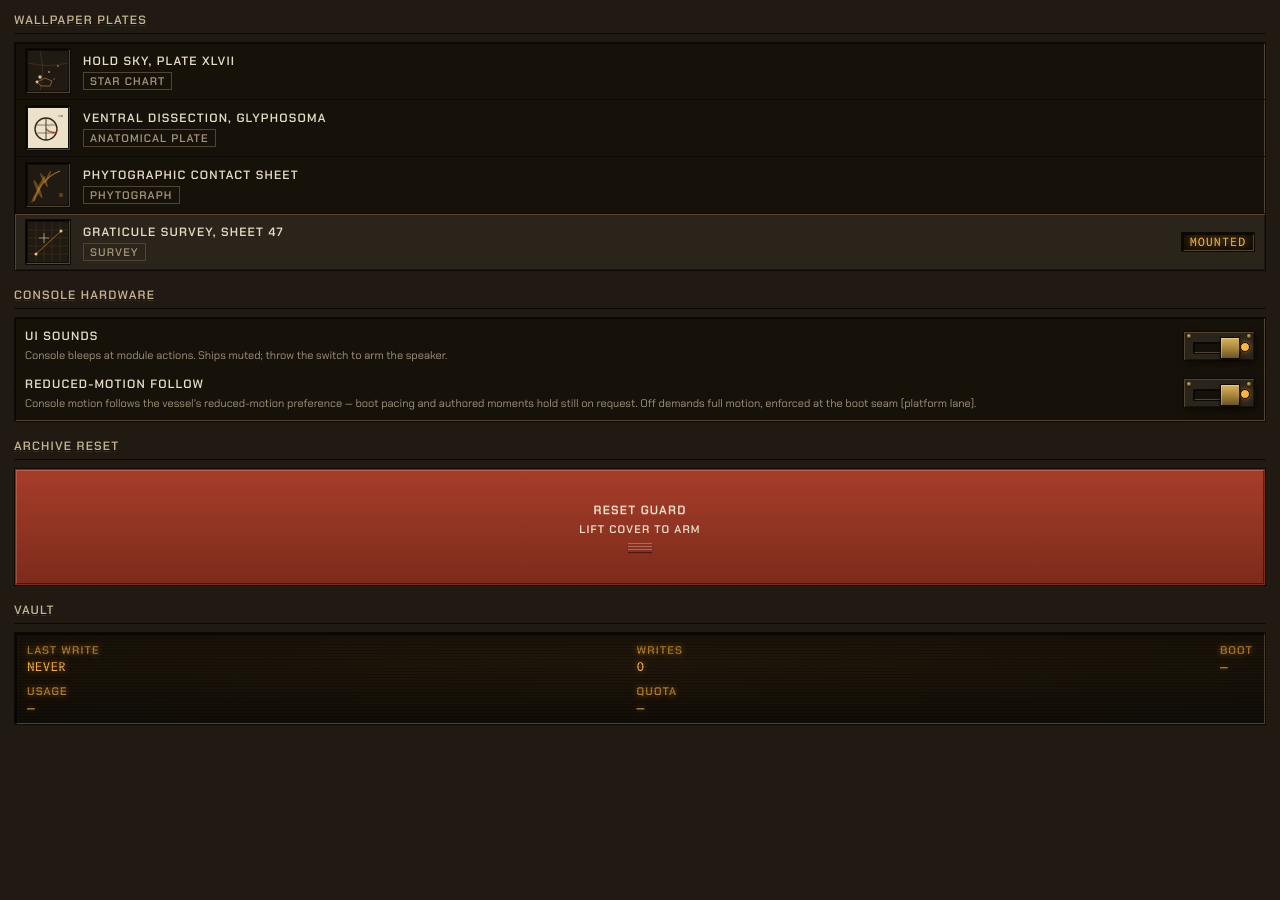
Test: AP-4 · guarded reset (cover → strip → throw) › throwing runs the storage reset + rehydrate: catalog reseeded, windows closed, console relit
This screenshot has width=1280, height=900.
Click the button "Reset guard Lift cover to arm" at (640, 527), box [15, 469, 1265, 585]
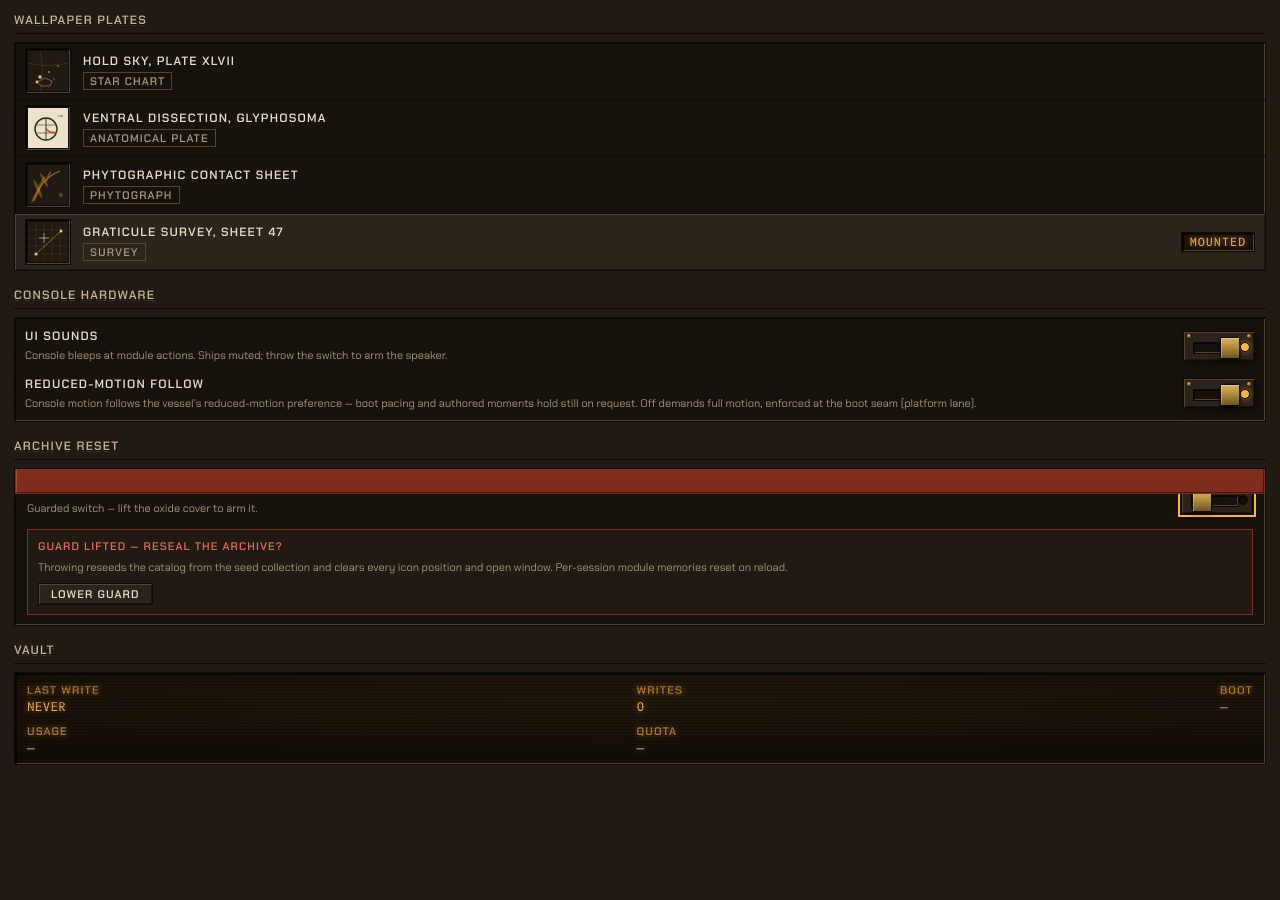
Press Space in the switch named "Reseal archive", box [1181, 484, 1253, 514]
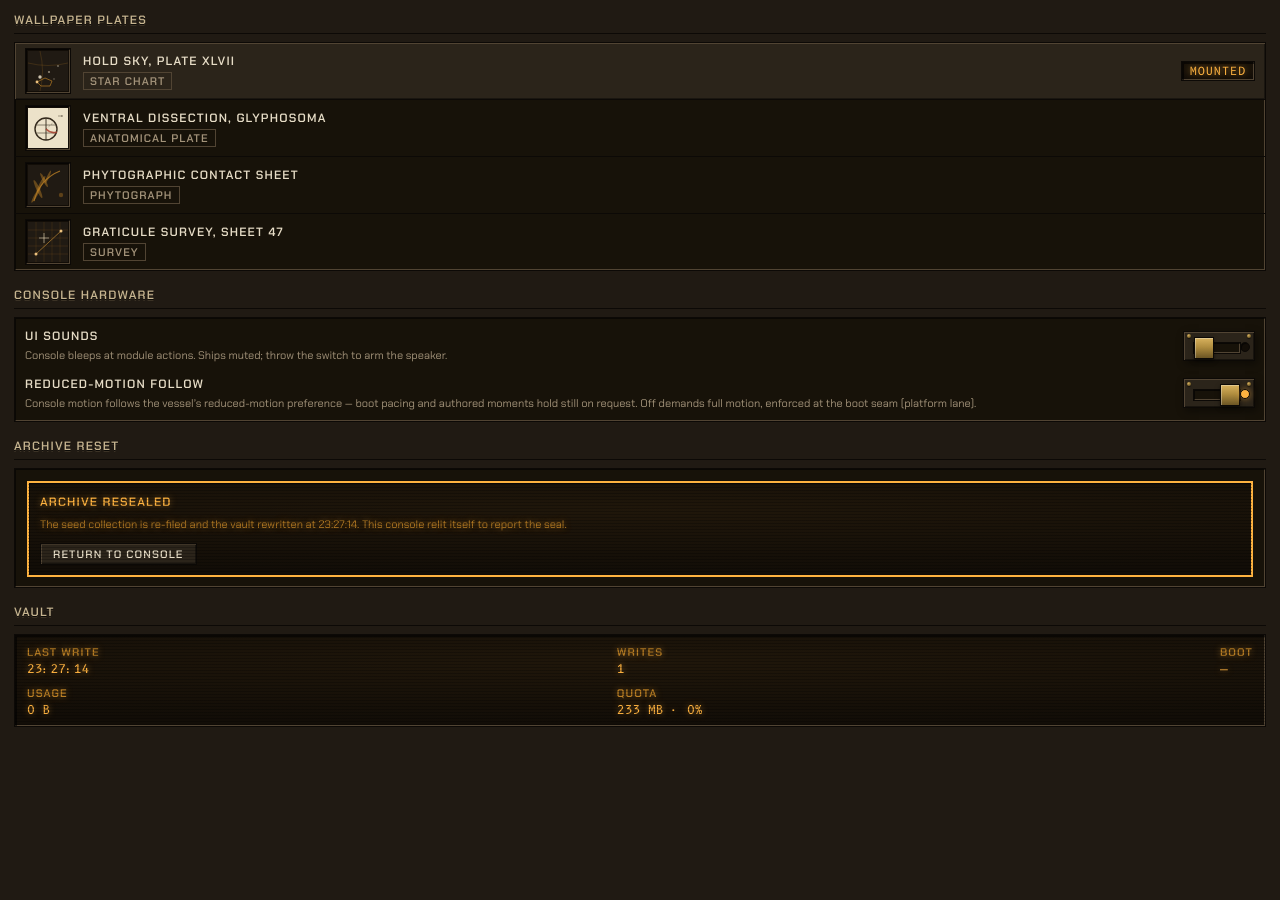
Expected: the message named "Archive resealed" is shown, [27, 481, 1253, 576]
Expected: the message named "Archive resealed" shows "Archive resealed", [40, 494, 172, 510]
